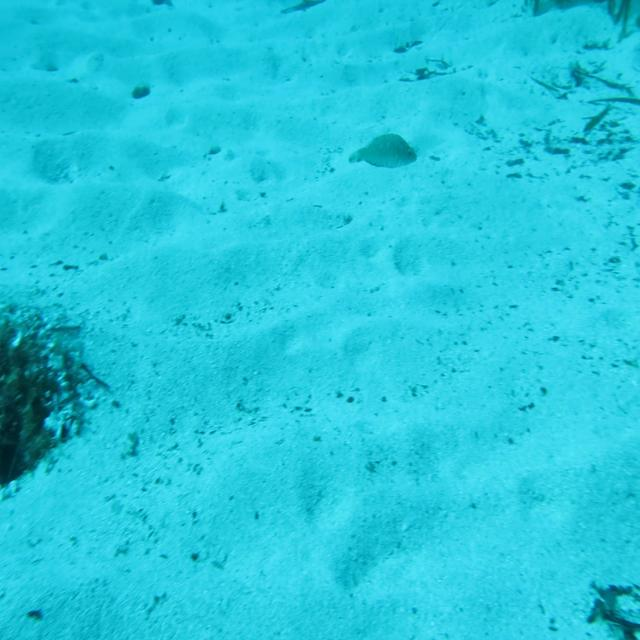SA: (346, 125, 426, 193)
nest: (0, 291, 98, 489)
